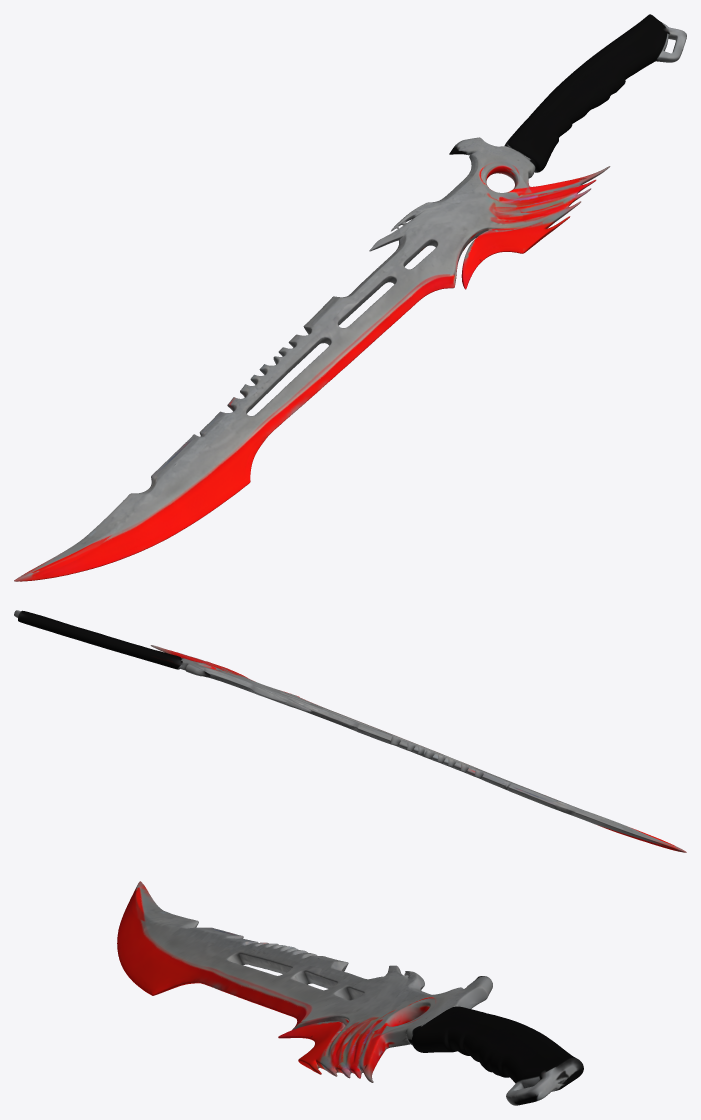
The picture shows the model from 3 angles, top to bottom: view 1: azimuth 30°, elevation 25°; view 2: azimuth 150°, elevation 25°; view 3: azimuth 270°, elevation 25°; orthographic projection. The views are drawn at different scales.
Parts seen in each view (by area): view 1: node_0; view 2: node_0; view 3: node_0.
Part boxes in pixels (x1,y1,x2,y2): node_0: (14, 14, 686, 581); node_0: (14, 610, 686, 852); node_0: (117, 881, 583, 1105).
Size of the model in its own units: 1.1 by 0.3397 by 0.3877.
Materials: 1 (1 with a texture image).
